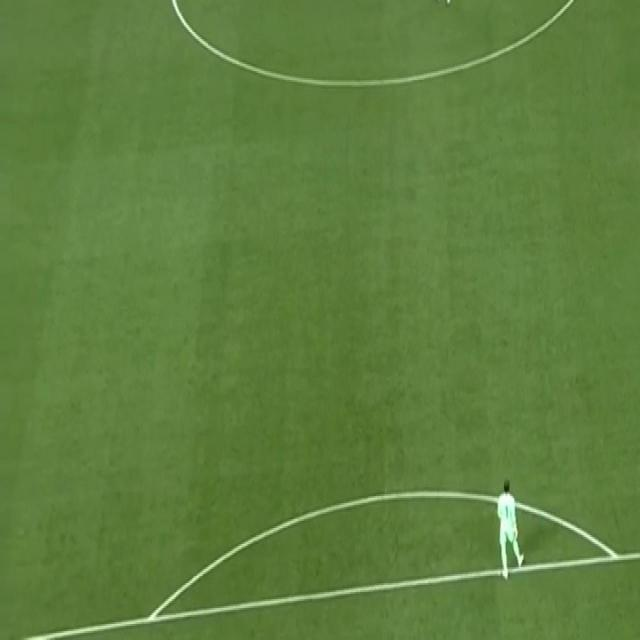player-white: (496, 477, 526, 583), (431, 0, 452, 6)
